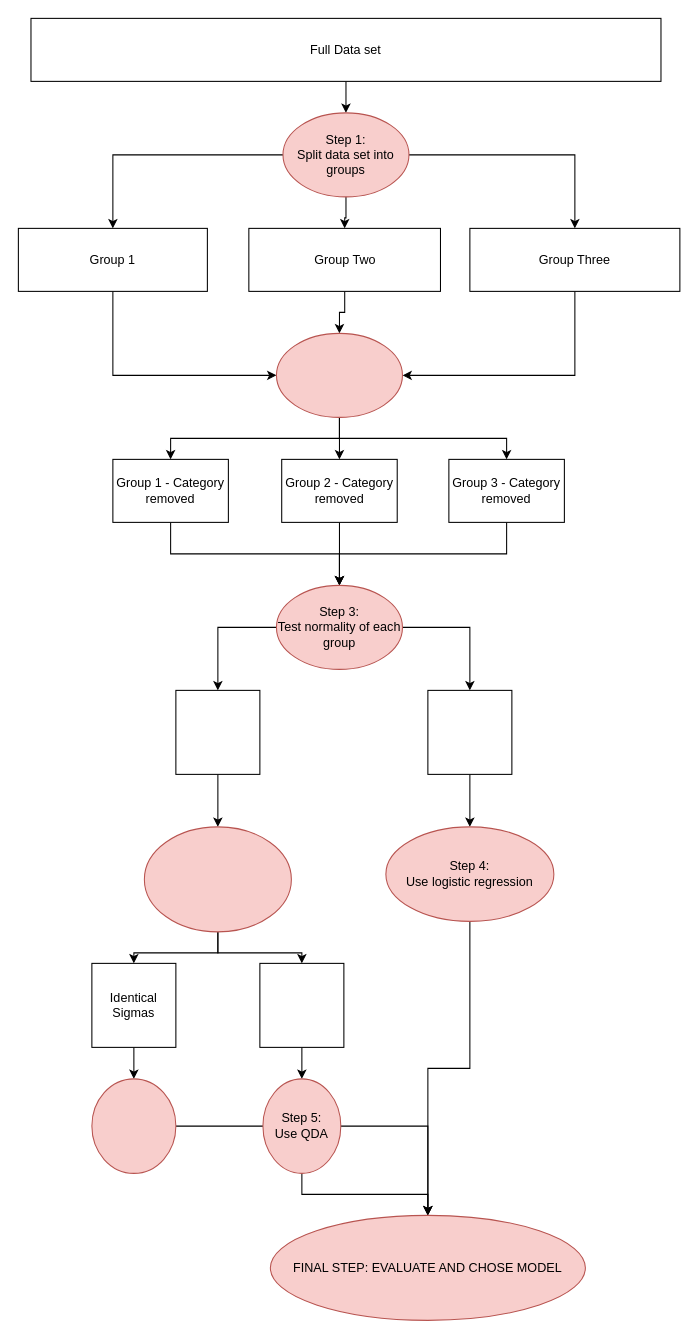
Image size: 698x1339. Some labels were removed from this diagram. Each missing label, with the box of its shape:
Different Sigmas: (259, 962, 344, 1047)
NORMAL: (175, 689, 260, 774)
NOT NORMAL: (427, 689, 512, 774)
Step 2: Remove group variable: (275, 332, 402, 417)
Step 4: Test that all groups have identical covariance matrices BOX-M: (143, 826, 291, 932)
Step 5: Use LDA: (91, 1078, 176, 1173)
